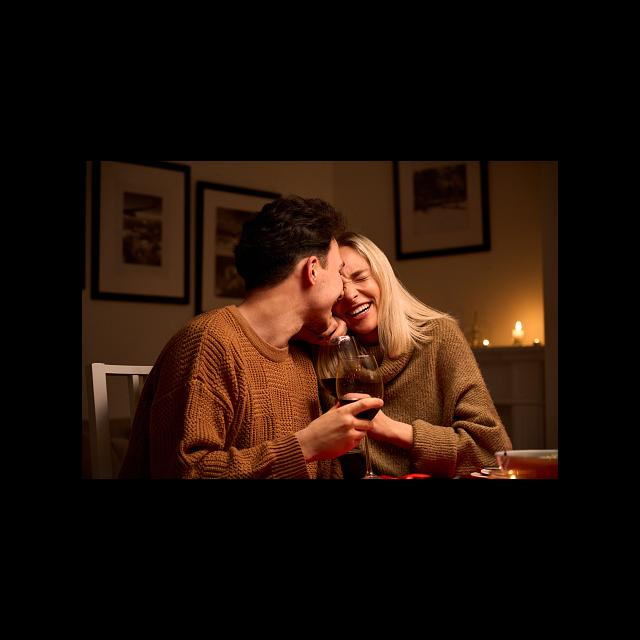female: (348, 217, 400, 354)
male: (235, 201, 342, 327)
